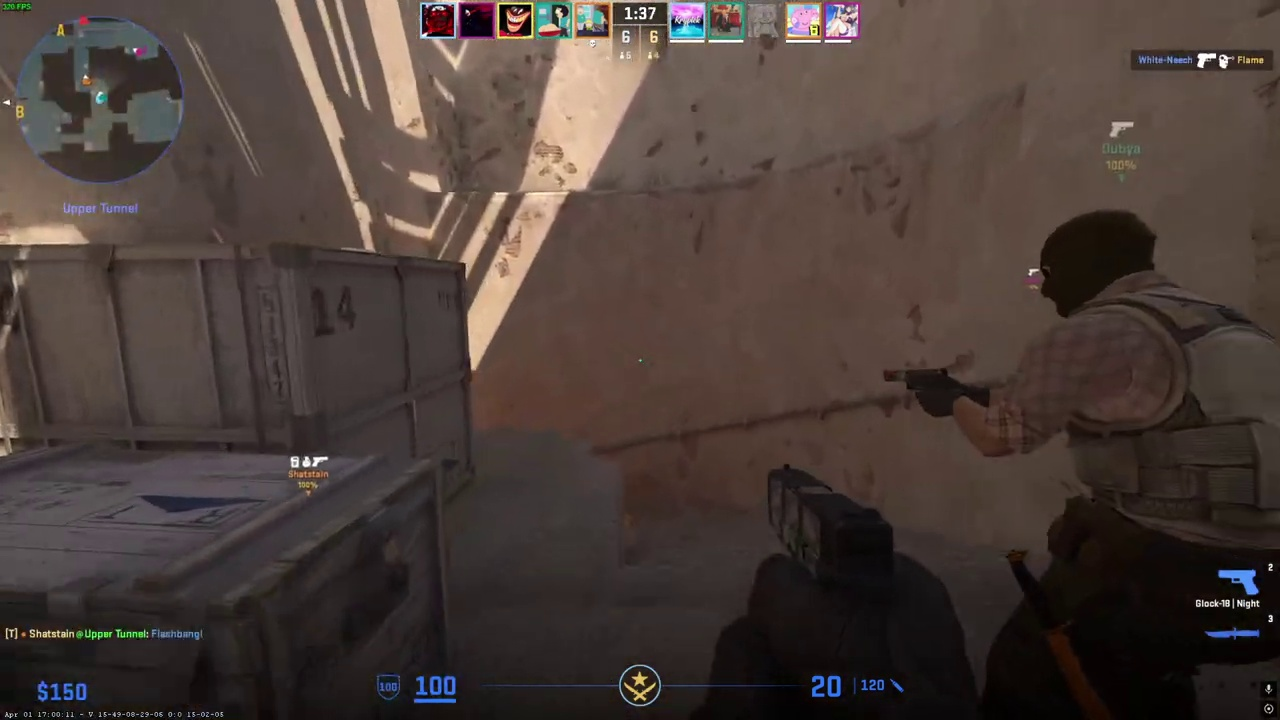Terrorist: (972, 209, 1280, 720)
